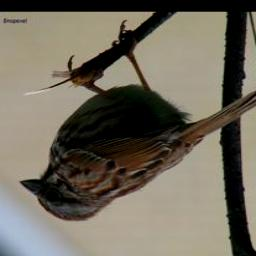Sparrow: (20, 20, 256, 225)
